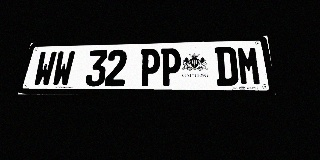2: (105, 49, 127, 86)
3: (85, 50, 108, 86)
D: (215, 47, 239, 86)
M: (236, 46, 263, 86)
P: (139, 49, 161, 86), (160, 48, 181, 86)
W: (32, 51, 57, 87), (51, 51, 76, 87)
